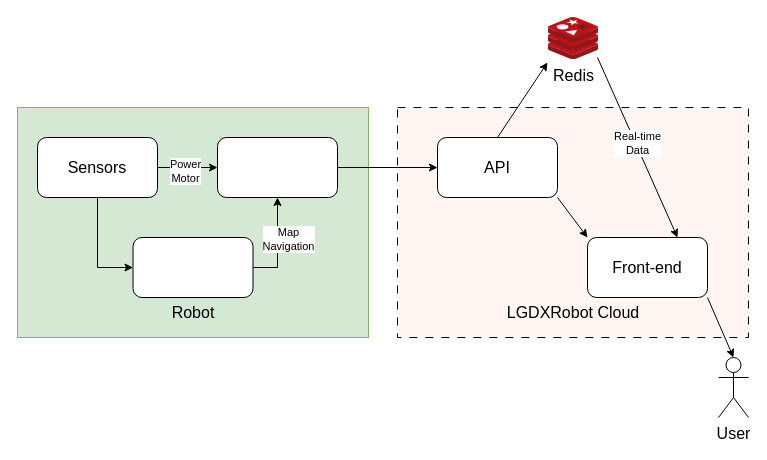
The diagram is 767 pixels wide and 460 high, and some of its shapes have lost their labels. Each missing label, with the centre of its shape:
Agent Node: the point at 277,167
Nav2 / ROS 2: the point at 192,267
